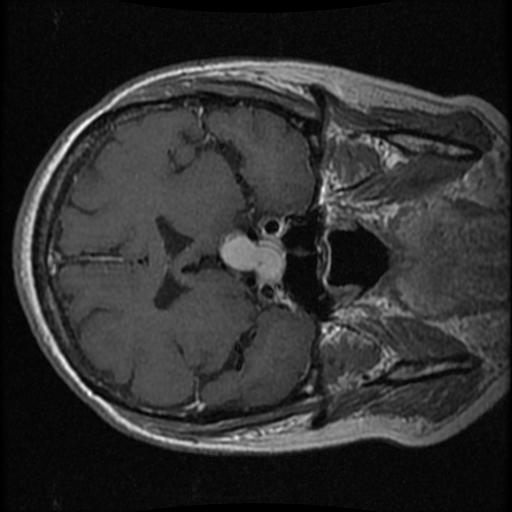pituitary tumour: (220, 234, 286, 284)
